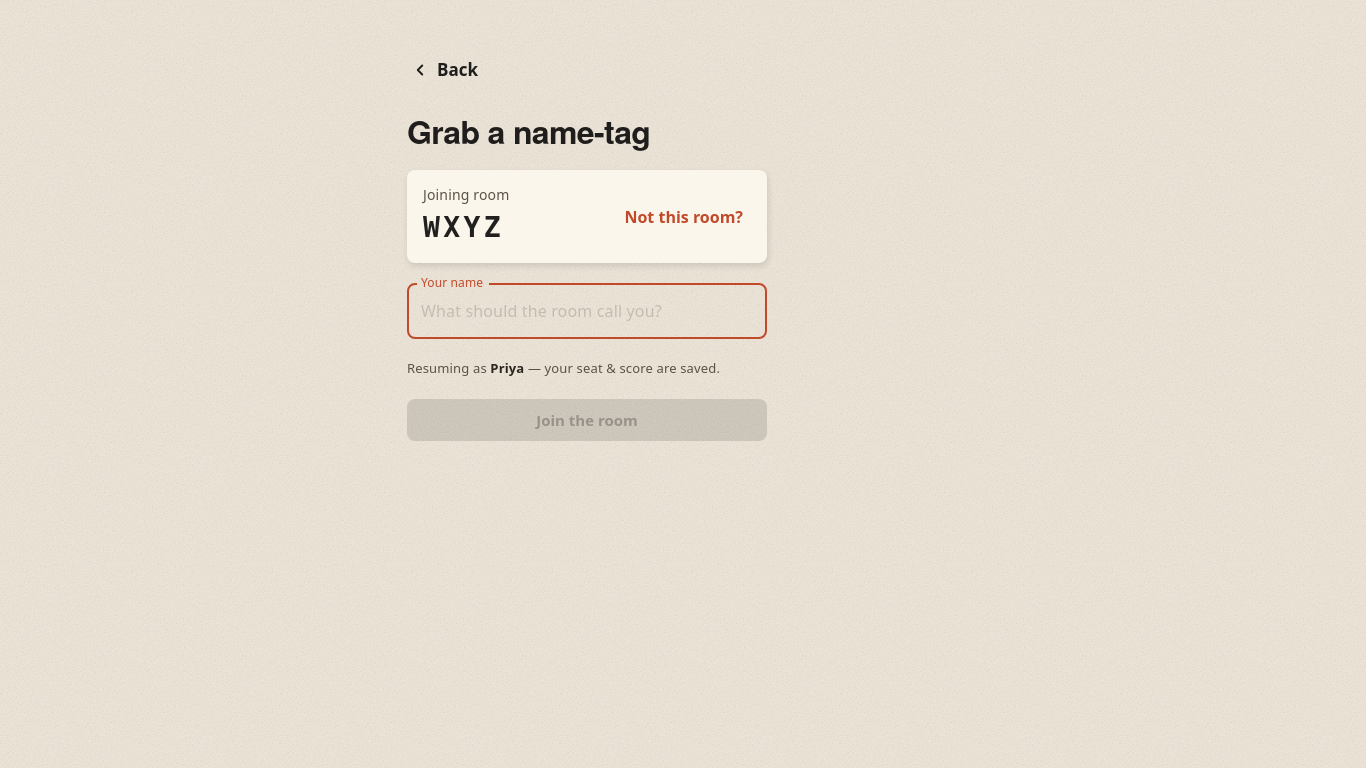
Test case: join link + join form (UX-2) › Back returns to the landing (from a link, too) and forgets the link
The width and height of the screenshot is (1366, 768).
Click the button "Back" at (446, 70), box [407,48,486,92]
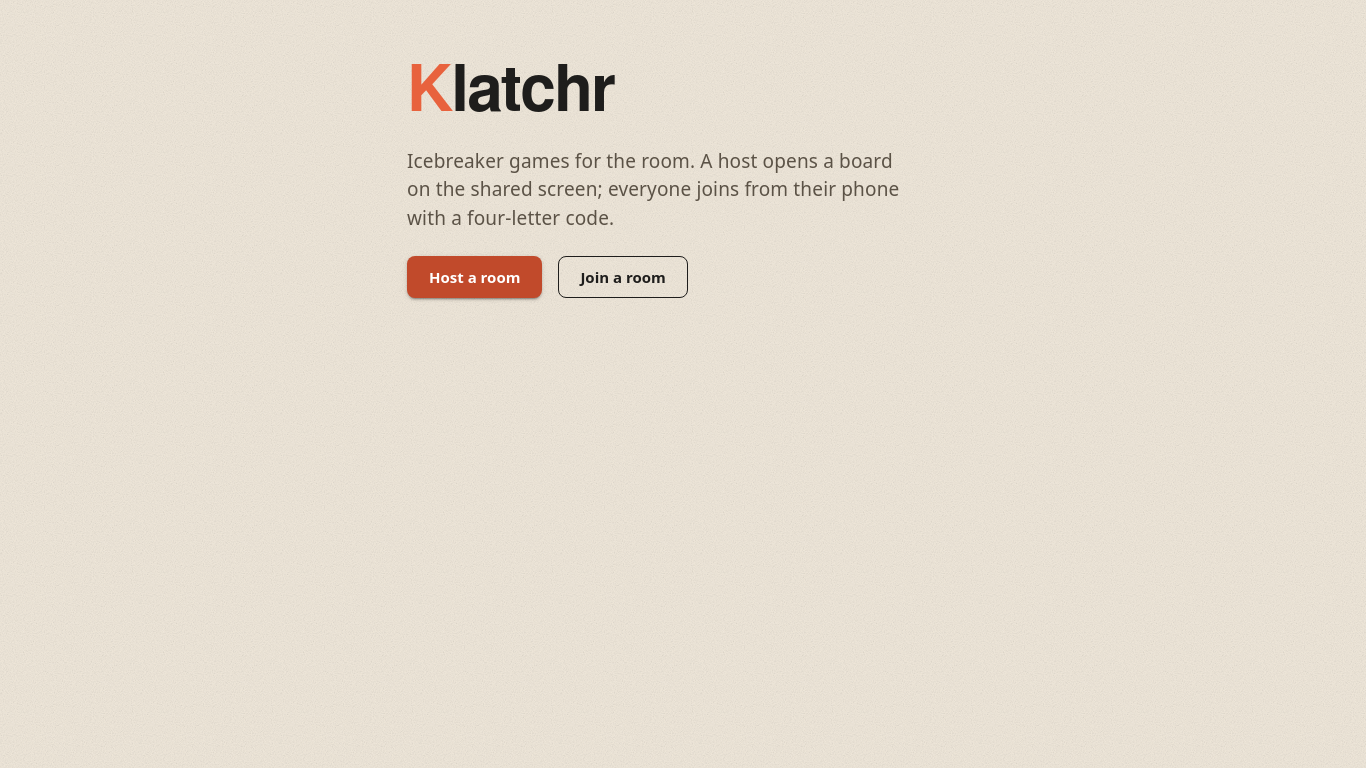
Now the button "Host a room" is shown, box [407,256,542,298]
// …and a typed join has Back too.
Click the button "Join a room" at (623, 277), box [558,256,688,298]
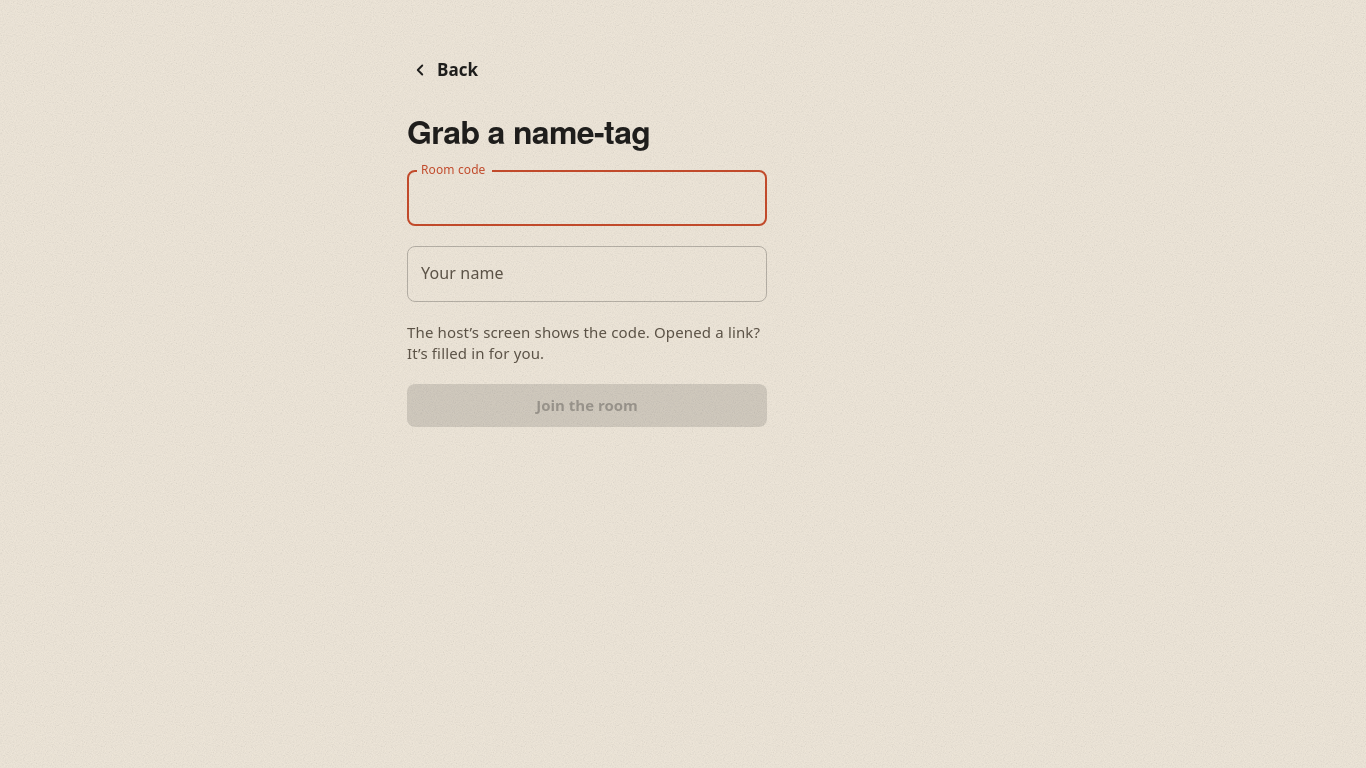
Now the field labelled "Room code" is shown, box [407,170,767,226]
Click the button "Back" at (446, 70), box [407,48,486,92]
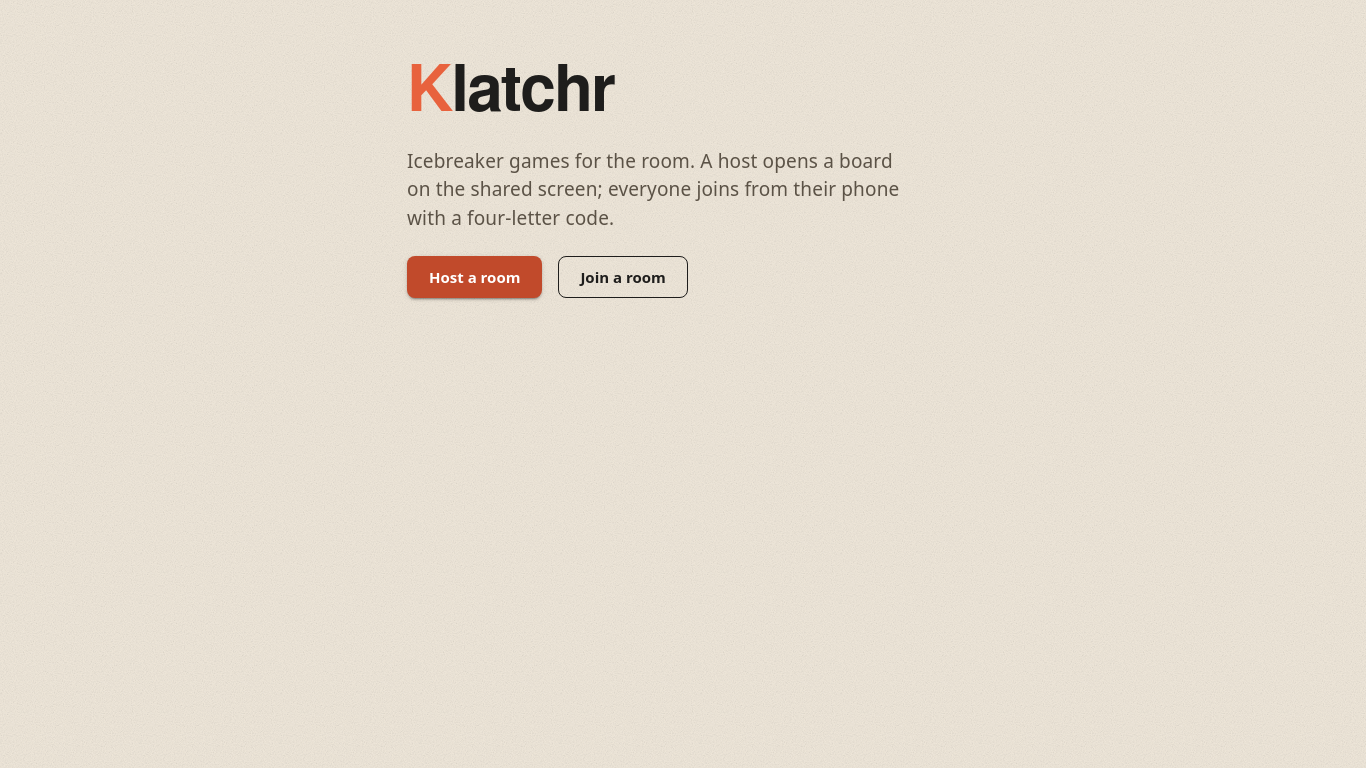
Now the button "Join a room" is shown, box [558,256,688,298]
